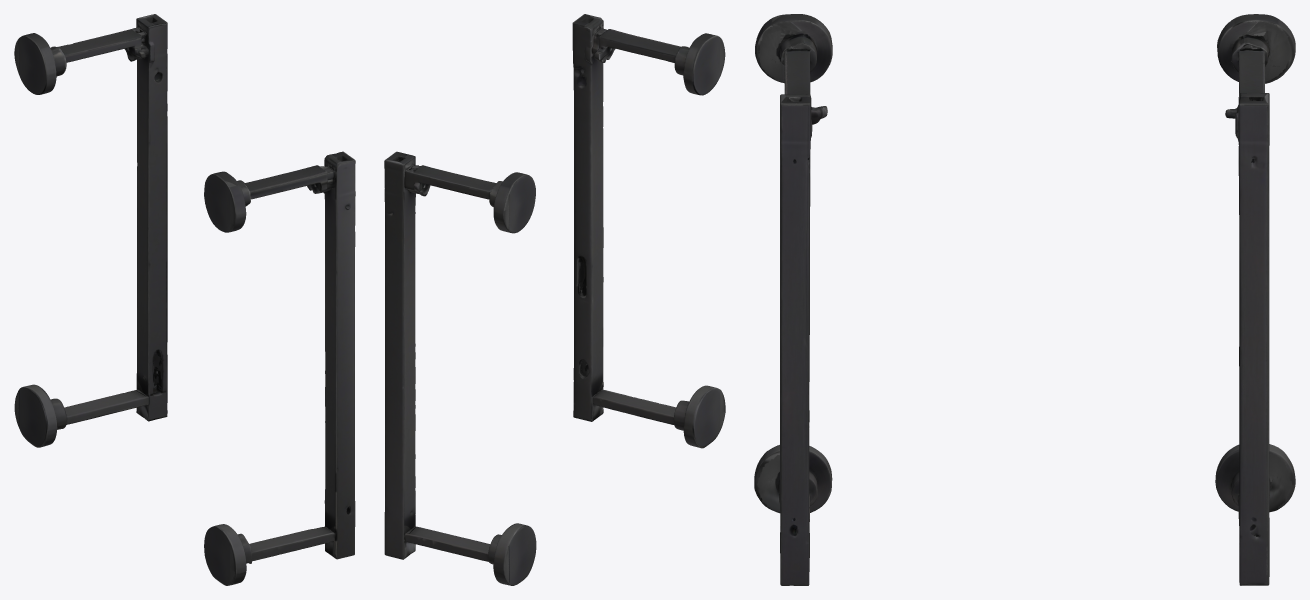
File: schiebe-system-verdeckt.glb
The picture shows the model from 3 angles, left to right: view 1: azimuth 30°, elevation 25°; view 2: azimuth 150°, elevation 25°; view 3: azimuth 270°, elevation 25°; orthographic projection. The views are drawn at different scales.
Size of the model in its own units: 0.6768 by 2 by 1.98.
Materials: 1 (1 with a texture image).
